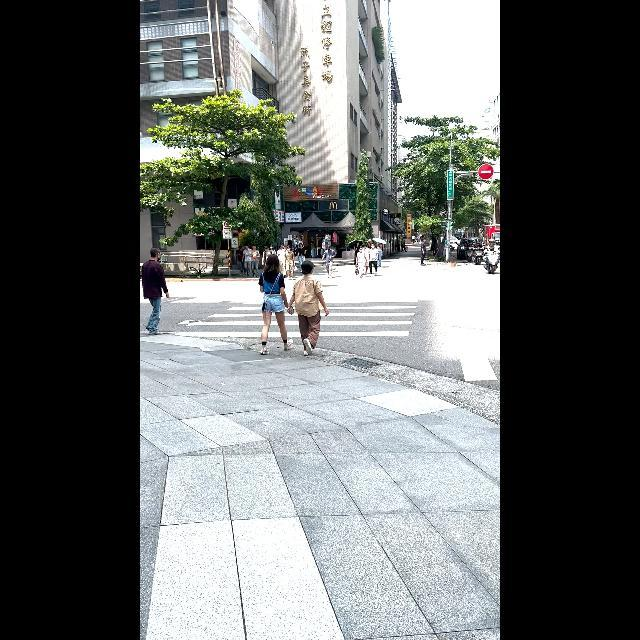sidewalk: (174, 298, 419, 336)
